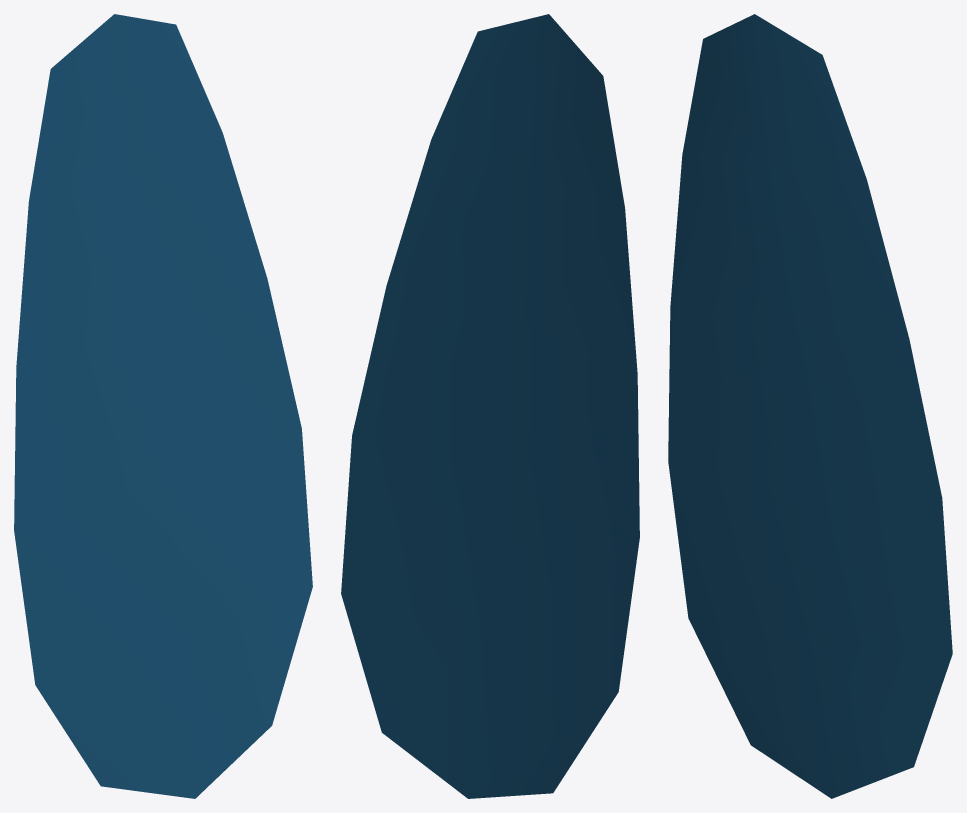
File: budgie_feather_flight_secondary_007.obj
3 views of the same model, side by side, from view 1: azimuth 30°, elevation 25°; view 2: azimuth 150°, elevation 25°; view 3: azimuth 330°, elevation 25° (orthographic). The views are drawn at different scales.
Parts seen in each view (by area): view 1: feather_flight_secondary_007; view 2: feather_flight_secondary_007; view 3: feather_flight_secondary_007.
Part boxes in pixels (box(x1,y1,x2,y2)): feather_flight_secondary_007: box(14, 14, 312, 798); feather_flight_secondary_007: box(341, 14, 639, 798); feather_flight_secondary_007: box(668, 14, 952, 798).
Bounding box in the file's own units: 0.0116 × 0.0299 × 0.000321.
